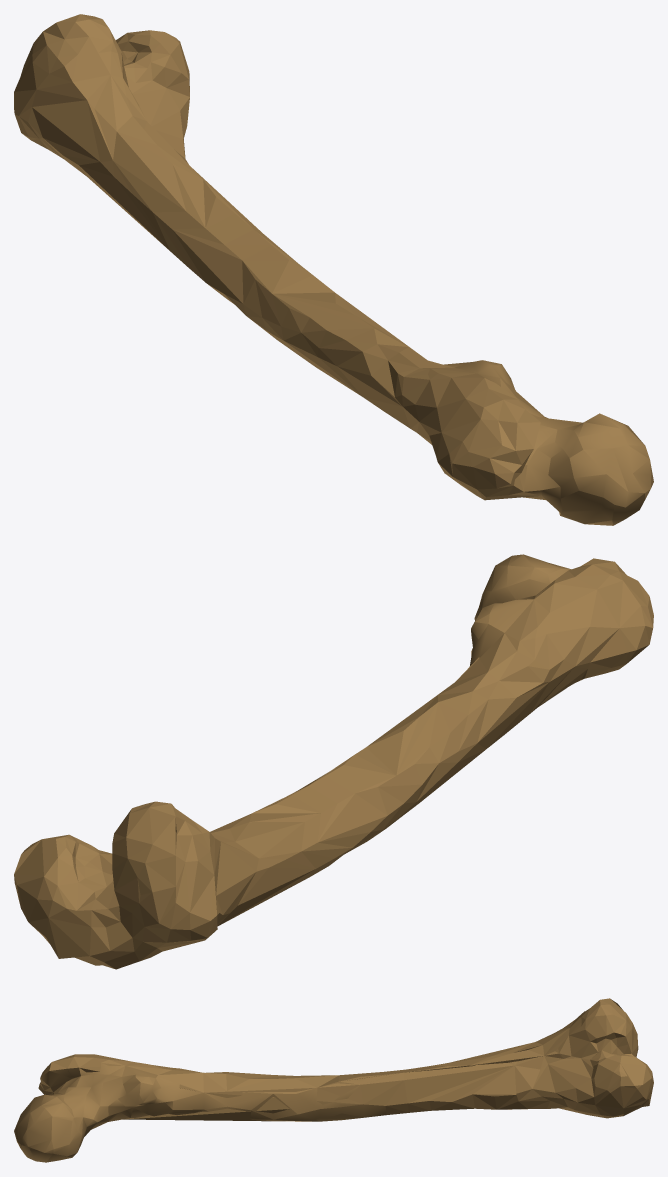
File: Bone(S).FBX
3 views of the same model, one above another, from view 1: azimuth 30°, elevation 25°; view 2: azimuth 150°, elevation 25°; view 3: azimuth 270°, elevation 25° (orthographic). The views are drawn at different scales.
Parts seen in each view (by area): view 1: Part2, Part3, Part4, Part1; view 2: Part2, Part3, Part1, Part4; view 3: Part1, Part4, Part3, Part2.
Boxes of the visible parts, box(x1,y1,x2,y2) form: Part2: box(14, 14, 334, 337); Part3: box(262, 292, 541, 500); Part4: box(295, 261, 653, 525); Part1: box(90, 16, 297, 262); Part2: box(110, 747, 422, 961); Part3: box(366, 558, 653, 826); Part1: box(14, 773, 326, 969); Part4: box(367, 554, 571, 746); Part1: box(361, 1005, 653, 1118); Part4: box(14, 1063, 386, 1162); Part3: box(38, 1054, 338, 1095); Part2: box(318, 998, 638, 1094).
Size of the model in its own units: 148 by 153 by 677.
